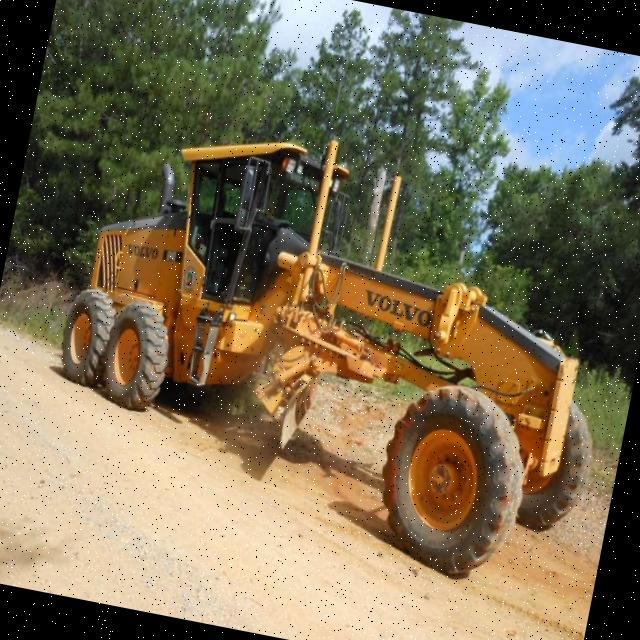Grader: (20, 88, 640, 636)
